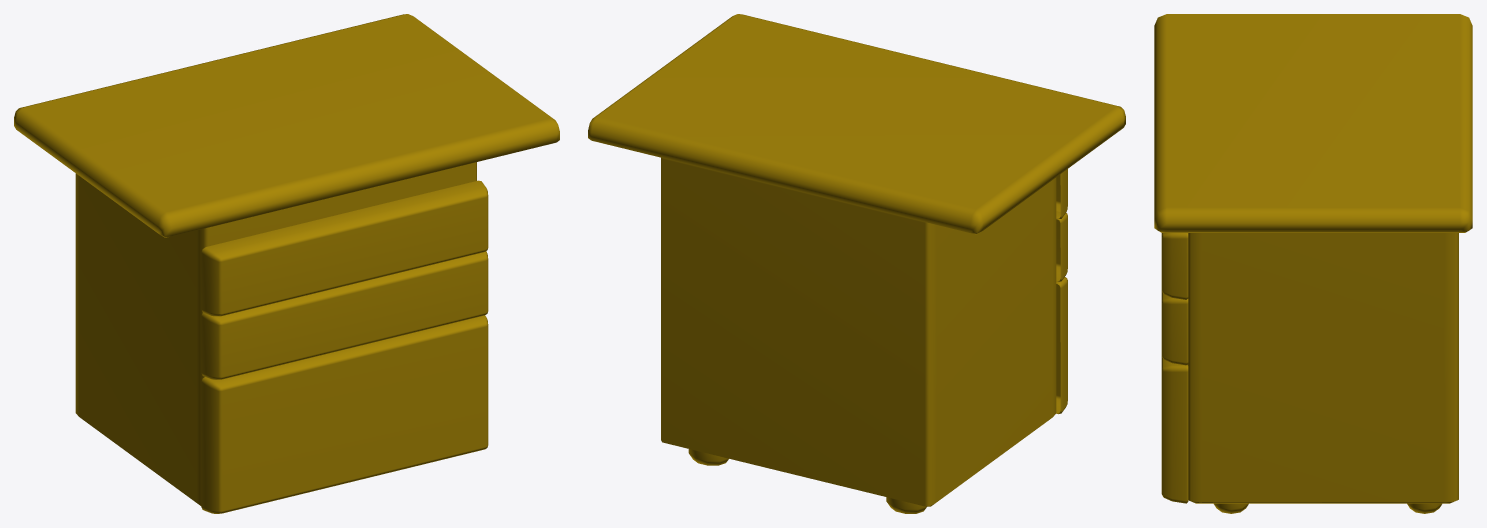
The model's file is SM_NightStand.fbx.
3 views of the same model, side by side, from view 1: azimuth 30°, elevation 25°; view 2: azimuth 150°, elevation 25°; view 3: azimuth 270°, elevation 25° (orthographic). The views are drawn at different scales.
Parts seen in each view (by area): view 1: SM_Nightstand; view 2: SM_Nightstand; view 3: SM_Nightstand.
Boxes of the visible parts, left/top/right/bottom form: SM_Nightstand: left=14, top=14, right=559, bottom=513; SM_Nightstand: left=588, top=14, right=1125, bottom=513; SM_Nightstand: left=1154, top=14, right=1472, bottom=513.
Bounding box in the file's own units: 187 × 151 × 125.
